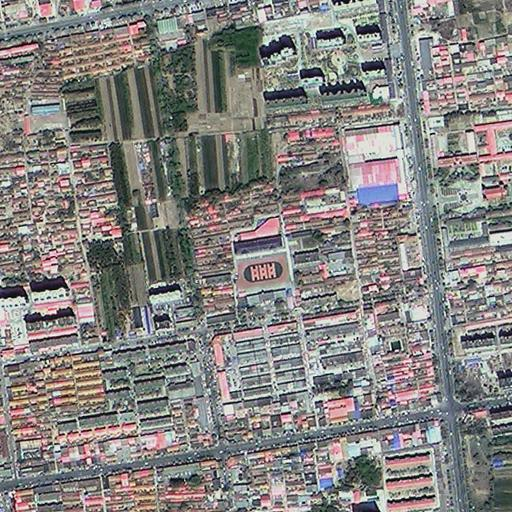school: (232, 213, 289, 292)
